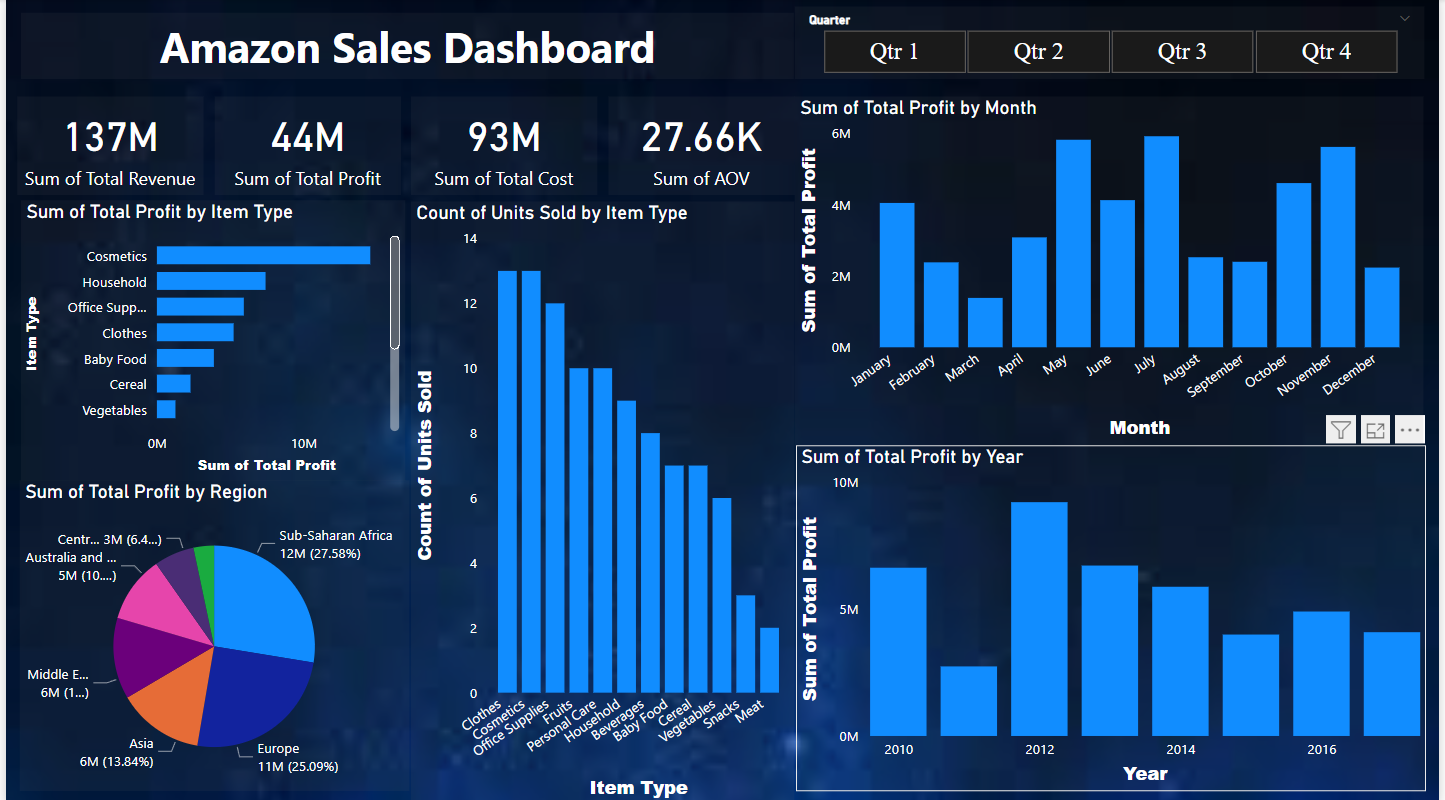

What the dashboard file says about the page in this screenshot:
{"tool":"powerbi","page":{"name":"Page 1","canvas":[1280,720],"ordinal":0},"visuals":[{"type":"columnChart","fields":{"Category":["Amazon Sales data.Order Date.Variation.Date Hierarchy.Year"],"Y":["Sum(Amazon Sales data.Total Profit)"]},"box":[705.8,398.8,562.8,309.3],"z":0},{"type":"textbox","box":[14,12.8,690.7,59.3],"z":1000},{"type":"columnChart","fields":{"Category":["Amazon Sales data.Order Date.Variation.Date Hierarchy.Month"],"Y":["Sum(Amazon Sales data.Total Profit)"]},"box":[704.7,87.2,561.6,311.6],"z":2000},{"type":"clusteredBarChart","fields":{"Category":["Amazon Sales data.Item Type"],"Y":["Sum(Amazon Sales data.Total Profit)"]},"box":[14,180.2,343,250],"z":3000},{"type":"slicer","fields":{"Values":["Amazon Sales data.Order Date.Variation.Date Hierarchy.Quarter"]},"box":[704.2,7.2,562.5,65.1],"z":4000},{"type":"card","fields":{"Values":["Sum(Amazon Sales data.Total Revenue)"]},"box":[9.9,86.9,166.3,88.1],"z":5000},{"type":"card","fields":{"Values":["Sum(Amazon Sales data.Total Profit)"]},"box":[186.5,86.8,166.3,88.2],"z":6000},{"type":"card","fields":{"Values":["Sum(Amazon Sales data.Total Cost)"]},"box":[361.5,86.8,166.3,88.2],"z":7000},{"type":"pieChart","fields":{"Category":["Amazon Sales data.Region"],"Y":["Sum(Amazon Sales data.Total Profit)"]},"box":[12.8,430.2,347.7,277.9],"z":8000},{"type":"card","fields":{"Values":["Sum(Amazon Sales data.AOV)"]},"box":[537.9,86.8,166.3,88.2],"z":9000},{"type":"columnChart","fields":{"Category":["Amazon Sales data.Item Type"],"Y":["CountNonNull(Amazon Sales data.Units Sold)"]},"box":[361.5,180.8,342.7,539.4],"z":10000}]}

Visuals, with their boxes in screenshot pixels (x1, y1, x2, y2), scaled from the page's 1280x720 canvas onto the 1445x800 screenshot:
columnChart - Amazon Sales data.Order Date.Variation.Date Hierarchy.Year x Sum(Amazon Sales data.Total Profit): left=797, top=443, right=1432, bottom=787
textbox: left=16, top=14, right=796, bottom=80
columnChart - Amazon Sales data.Order Date.Variation.Date Hierarchy.Month x Sum(Amazon Sales data.Total Profit): left=796, top=97, right=1430, bottom=443
clusteredBarChart - Amazon Sales data.Item Type x Sum(Amazon Sales data.Total Profit): left=16, top=200, right=403, bottom=478
slicer - Amazon Sales data.Order Date.Variation.Date Hierarchy.Quarter: left=795, top=8, right=1430, bottom=80
card - Sum(Amazon Sales data.Total Revenue): left=11, top=97, right=199, bottom=194
card - Sum(Amazon Sales data.Total Profit): left=211, top=96, right=398, bottom=194
card - Sum(Amazon Sales data.Total Cost): left=408, top=96, right=596, bottom=194
pieChart - Amazon Sales data.Region x Sum(Amazon Sales data.Total Profit): left=14, top=478, right=407, bottom=787
card - Sum(Amazon Sales data.AOV): left=607, top=96, right=795, bottom=194
columnChart - Amazon Sales data.Item Type x CountNonNull(Amazon Sales data.Units Sold): left=408, top=201, right=795, bottom=799
